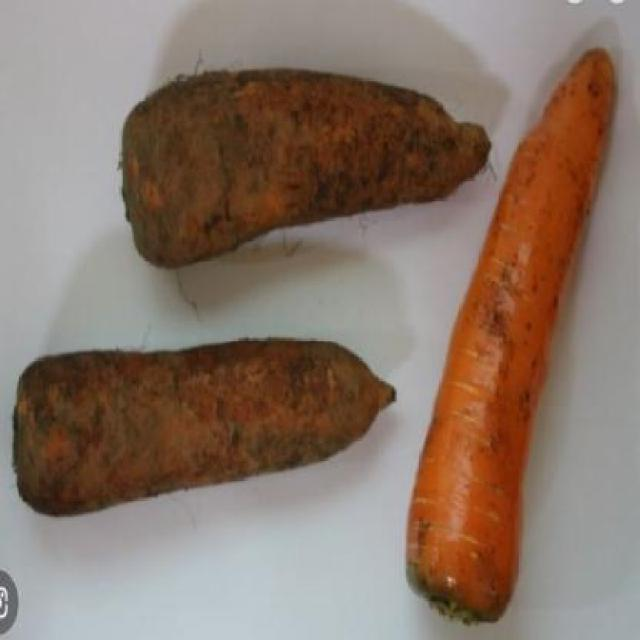carrot: (405, 36, 620, 628), (115, 66, 499, 282), (10, 330, 401, 523)
